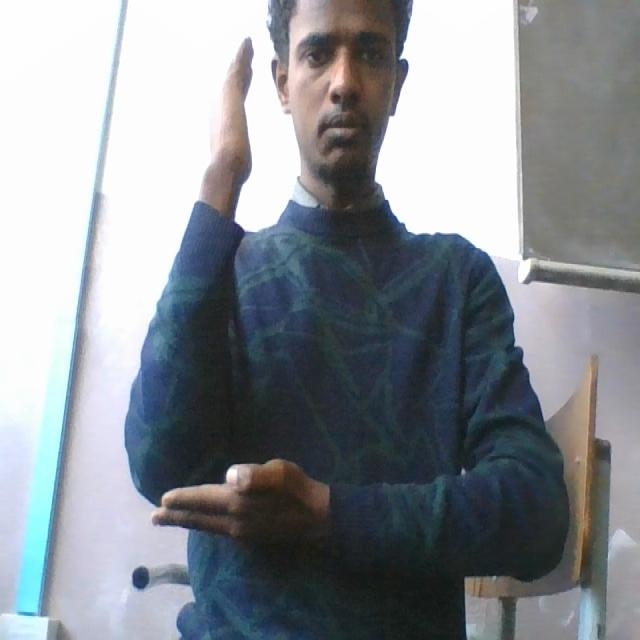egziabher: (126, 34, 324, 560)
